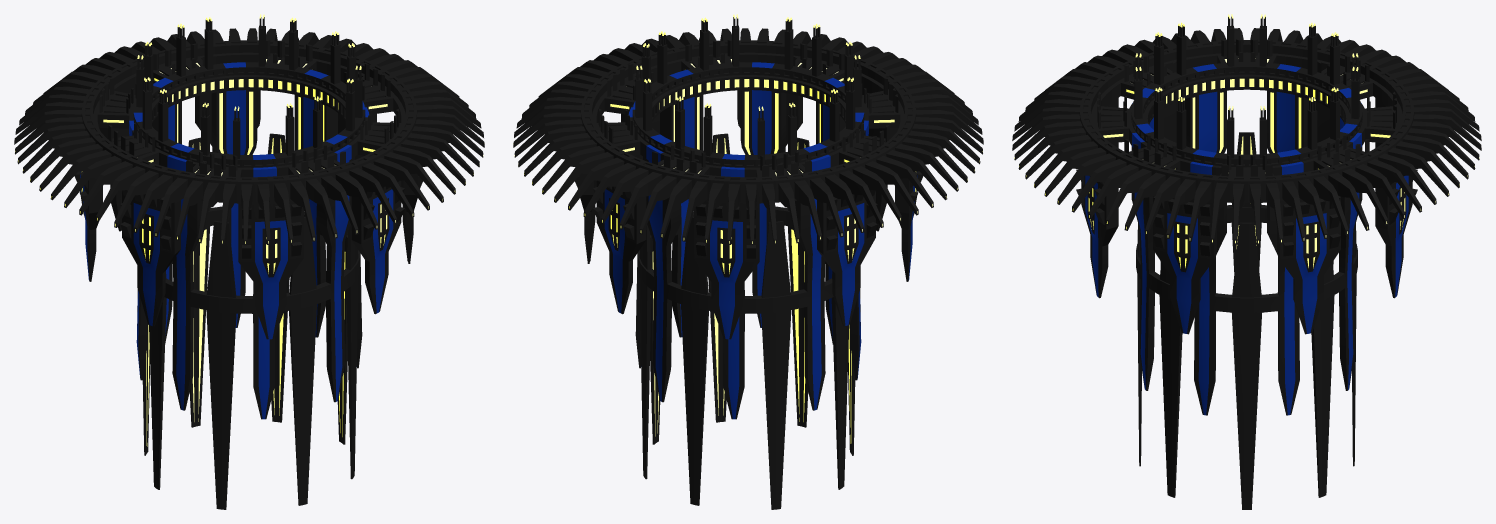
The model's file is 01_hero_VeinPortal.glb.
3 renders of one model, left to right at view 1: azimuth 30°, elevation 25°; view 2: azimuth 150°, elevation 25°; view 3: azimuth 270°, elevation 25°, orthographic.
Parts seen in each view (by area): view 1: 01_hero_VeinPortal; view 2: 01_hero_VeinPortal; view 3: 01_hero_VeinPortal.
Part boxes in pixels (x1,y1,x2,y2): 01_hero_VeinPortal: [14, 14, 484, 509]; 01_hero_VeinPortal: [513, 14, 983, 509]; 01_hero_VeinPortal: [1012, 14, 1481, 509].
Size of the model in its own units: 0.7809 by 0.7407 by 0.7809.
